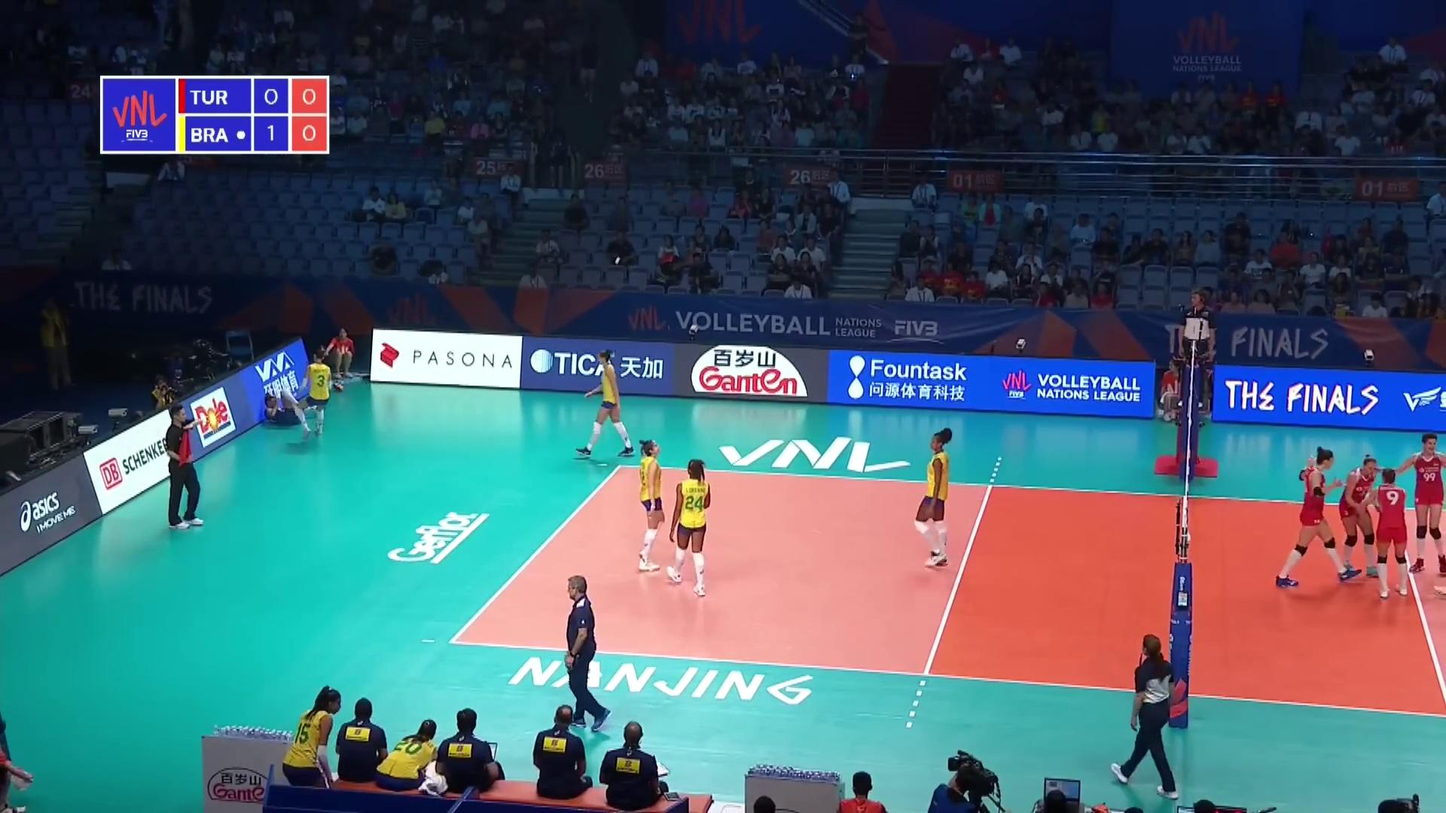player: (1282, 449, 1355, 588), (1399, 433, 1446, 578), (577, 347, 638, 458), (1359, 468, 1410, 599), (665, 458, 714, 594), (914, 430, 954, 566), (1342, 455, 1381, 579), (636, 439, 666, 572), (293, 351, 333, 442), (263, 391, 320, 425)
refree: (1111, 634, 1178, 794), (165, 406, 209, 527), (1173, 291, 1213, 407)
